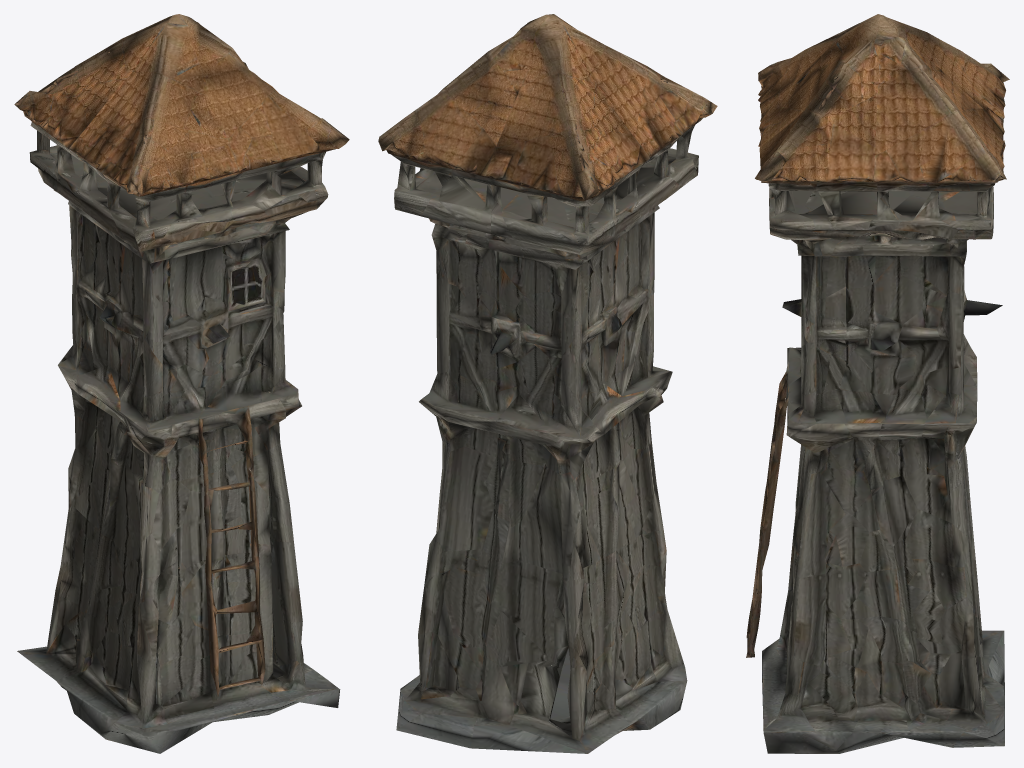
Rendered from holzturm.glb.
3 renders of one model, left to right at view 1: azimuth 30°, elevation 25°; view 2: azimuth 150°, elevation 25°; view 3: azimuth 270°, elevation 25°, orthographic.
Bounding box in the file's own units: 0.6395 × 1.9 × 0.6618.
Materials: 1 (1 with a texture image).
